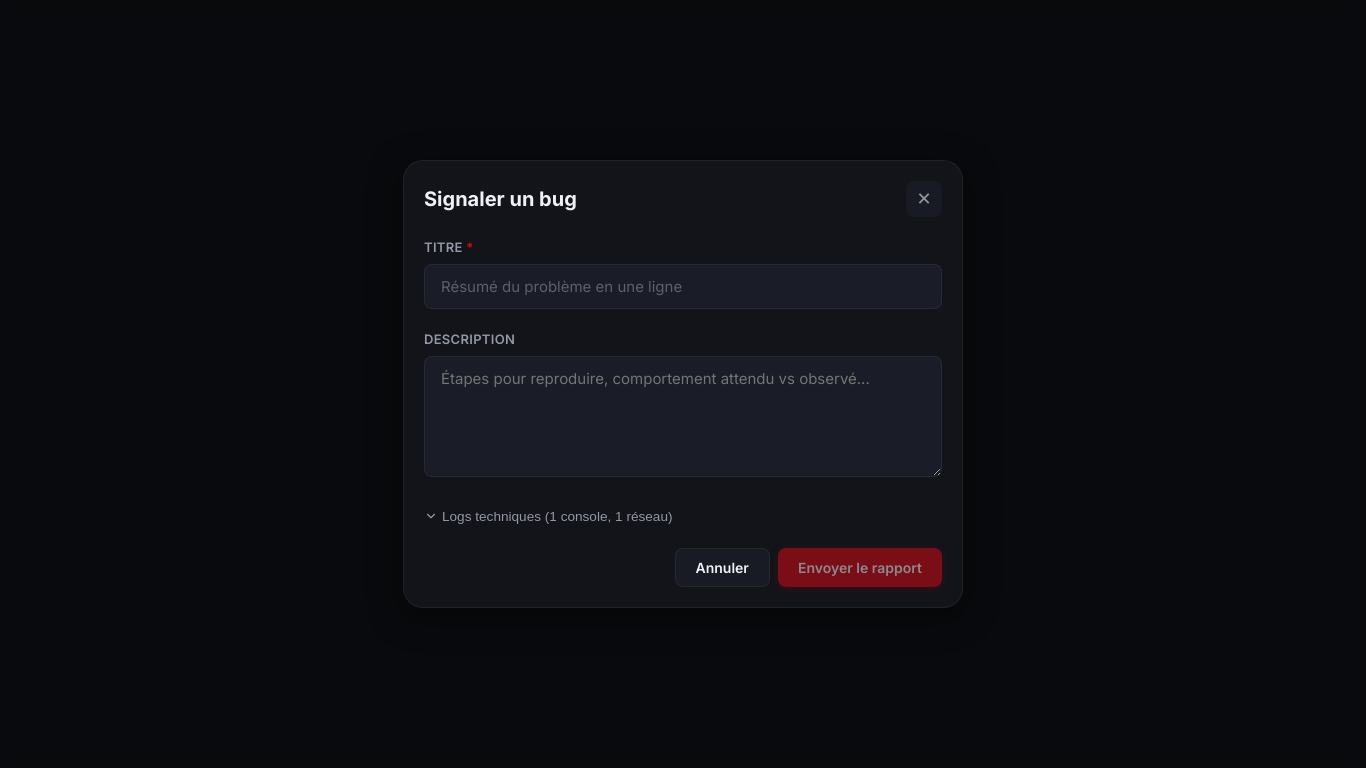
Test: BugReportModal — section logs techniques › affiche les logs après un clic sur le toggle
Click the button "Logs techniques (1 console, 1 réseau)" at (548, 516), box [424,505,672,528]
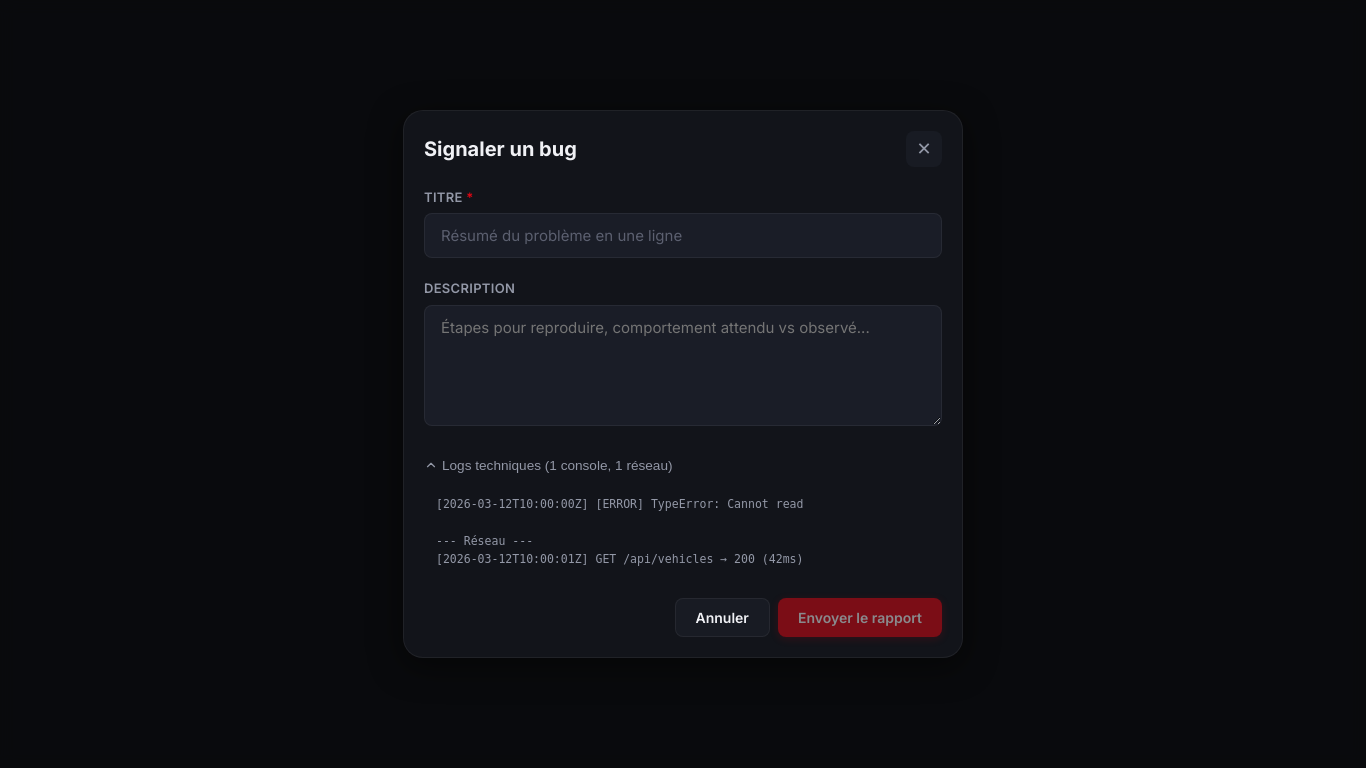
Expected: the text "TypeError: Cannot read" is shown, [436,497,804,511]
